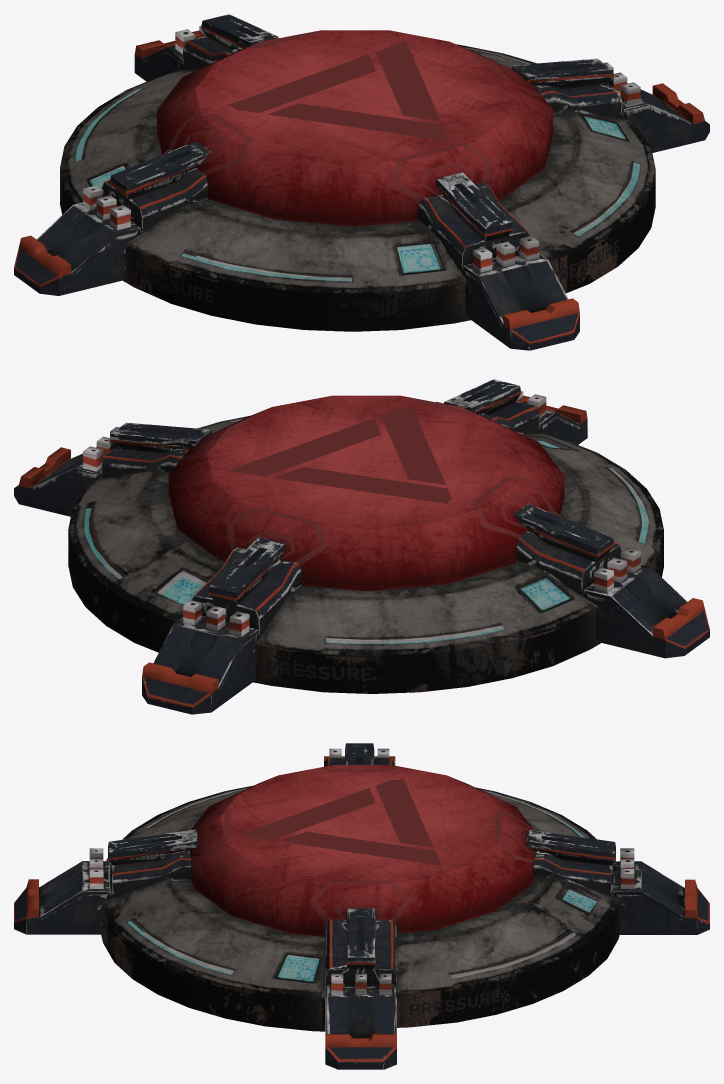
The model's file is sci-fi_pressure_plate_-__3d_model.glb.
The picture shows the model from 3 angles, top to bottom: view 1: azimuth 30°, elevation 25°; view 2: azimuth 150°, elevation 25°; view 3: azimuth 270°, elevation 25°; orthographic projection. The views are drawn at different scales.
Visible parts, largest first — view 1: Object011_base_0, botonlow, ew003_amarres_0, Cristal009; view 2: Object011_base_0, botonlow, ew003_amarres_0, Cristal009; view 3: Object011_base_0, botonlow, ew003_amarres_0, Cristal009.
Part boxes in pixels (box(x1,y1,x2,y2)): Object011_base_0: box(60, 44, 655, 331); botonlow: box(157, 30, 553, 226); ew003_amarres_0: box(14, 14, 709, 350); Cristal009: box(75, 90, 639, 281); Object011_base_0: box(68, 416, 663, 693); botonlow: box(168, 395, 564, 591); ew003_amarres_0: box(14, 379, 709, 714); Cristal009: box(84, 441, 647, 643); Object011_base_0: box(101, 785, 619, 1031); botonlow: box(189, 765, 535, 936); ew003_amarres_0: box(14, 743, 709, 1069); Cristal009: box(127, 815, 596, 981).
Bounding box in the file's own units: 76.77 × 11.87 × 77.3.
Materials: 4 (4 with a texture image).
